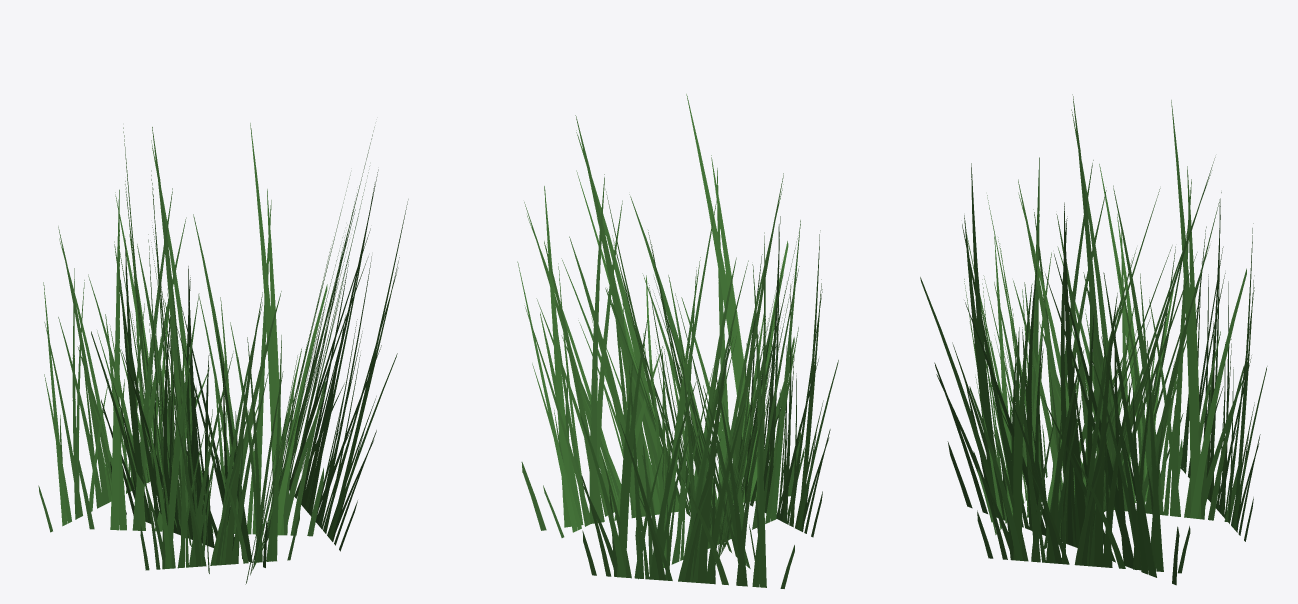
The model's file is grass-clump-a.glb.
The picture shows the model from 3 angles, left to right: view 1: azimuth 30°, elevation 25°; view 2: azimuth 150°, elevation 25°; view 3: azimuth 270°, elevation 25°; orthographic projection. The views are drawn at different scales.
Parts seen in each view (by area): view 1: grass-clump; view 2: grass-clump; view 3: grass-clump.
Part boxes in pixels (x1,y1,x2,y2): grass-clump: [38, 123, 408, 584]; grass-clump: [517, 94, 838, 588]; grass-clump: [920, 94, 1267, 585].
Size of the model in its own units: 0.6763 by 0.8415 by 0.6549.
Materials: 1 (1 with a texture image).
